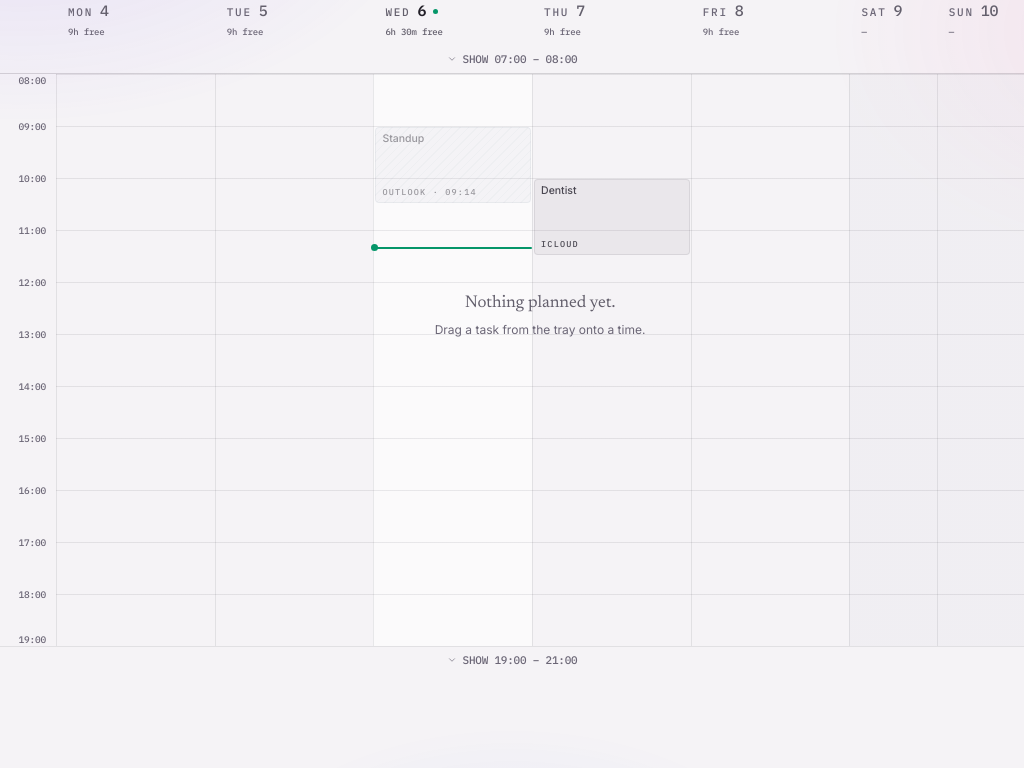
WeekGrid (chunk 36) › stale popover shows the amber cached line instead
Click the text "Standup". click: [403, 138]
box: [382,130,424,146]
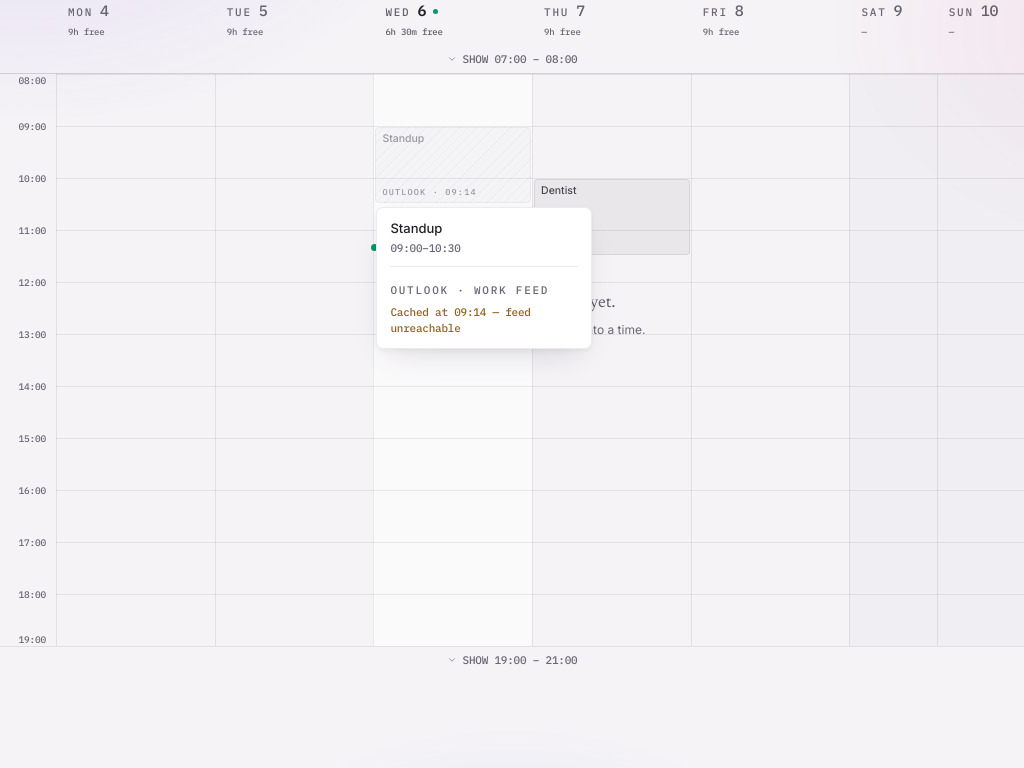
Check: the dialog shows "Cached at 09:14 — feed unreachable", box [390,304,531,335]
